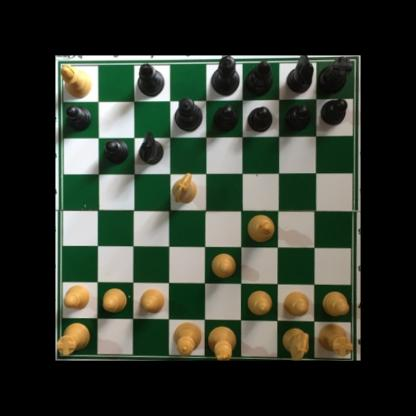black-bishop: (243, 57, 275, 96), (137, 64, 167, 97)
black-king: (209, 56, 240, 96)
black-knight: (286, 56, 315, 94), (137, 130, 163, 165)
black-pawn: (320, 97, 348, 126), (64, 104, 92, 132), (245, 106, 274, 133), (284, 104, 311, 132), (212, 105, 237, 134), (102, 139, 129, 165)
black-queen: (173, 97, 203, 132)
black-rook: (317, 56, 352, 95)
white-bishop: (60, 62, 93, 99), (245, 212, 276, 243)
white-king: (204, 324, 236, 361)
white-knight: (282, 326, 309, 361), (171, 172, 197, 206)
white-pawn: (246, 289, 274, 318), (320, 290, 350, 317), (210, 253, 237, 281), (283, 290, 310, 317), (138, 287, 165, 314), (64, 284, 90, 311), (101, 286, 127, 313)
white-queen: (171, 319, 202, 358)
white-rook: (56, 320, 91, 357), (316, 322, 352, 356)
